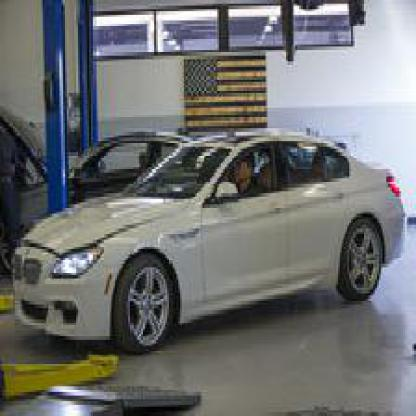not_emergency: (13, 84, 414, 356)
